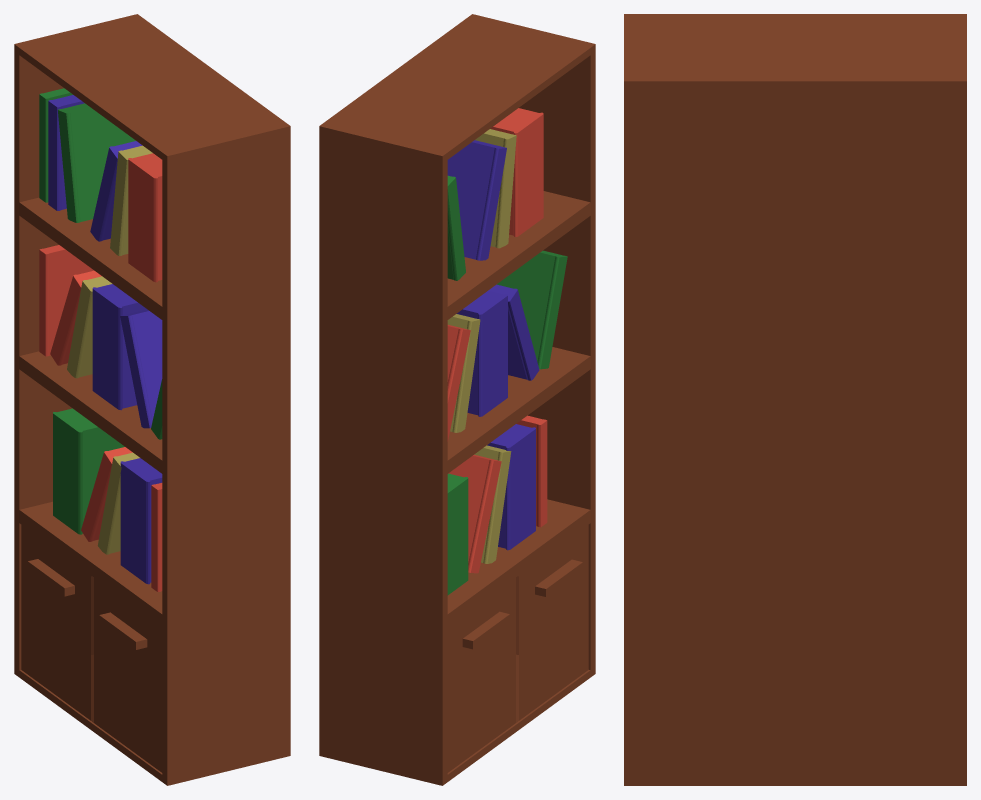
Rendered from AG_Biblioteca.fbx.
3 renders of one model, left to right at view 1: azimuth 30°, elevation 25°; view 2: azimuth 150°, elevation 25°; view 3: azimuth 270°, elevation 25°, orthographic. The views are drawn at different scales.
Parts seen in each view (by area): view 1: AG_Biblioteca; view 2: AG_Biblioteca; view 3: AG_Biblioteca.
Part boxes in pixels (x1,y1,x2,y2): AG_Biblioteca: [14, 14, 290, 785]; AG_Biblioteca: [319, 14, 595, 785]; AG_Biblioteca: [624, 14, 966, 785].
Bounding box in the file's own units: 215 × 976 × 430.
